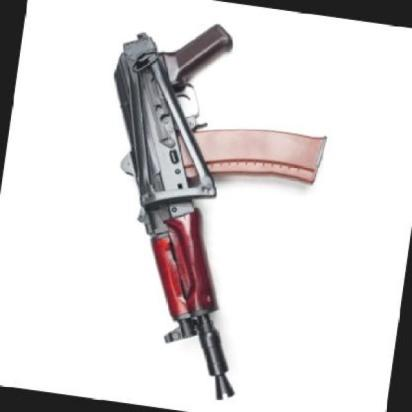Gun: (114, 22, 326, 400)
